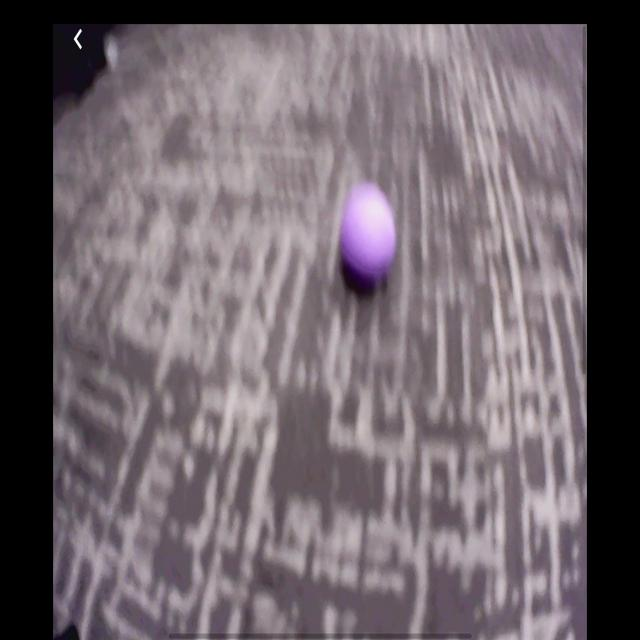ball: (339, 180, 398, 296)
